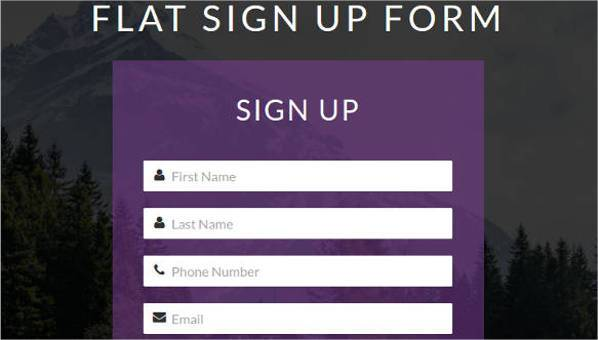_form_: (72, 1, 488, 340)
field: (142, 302, 455, 336), (142, 159, 454, 193), (142, 206, 453, 239), (143, 256, 454, 287)
